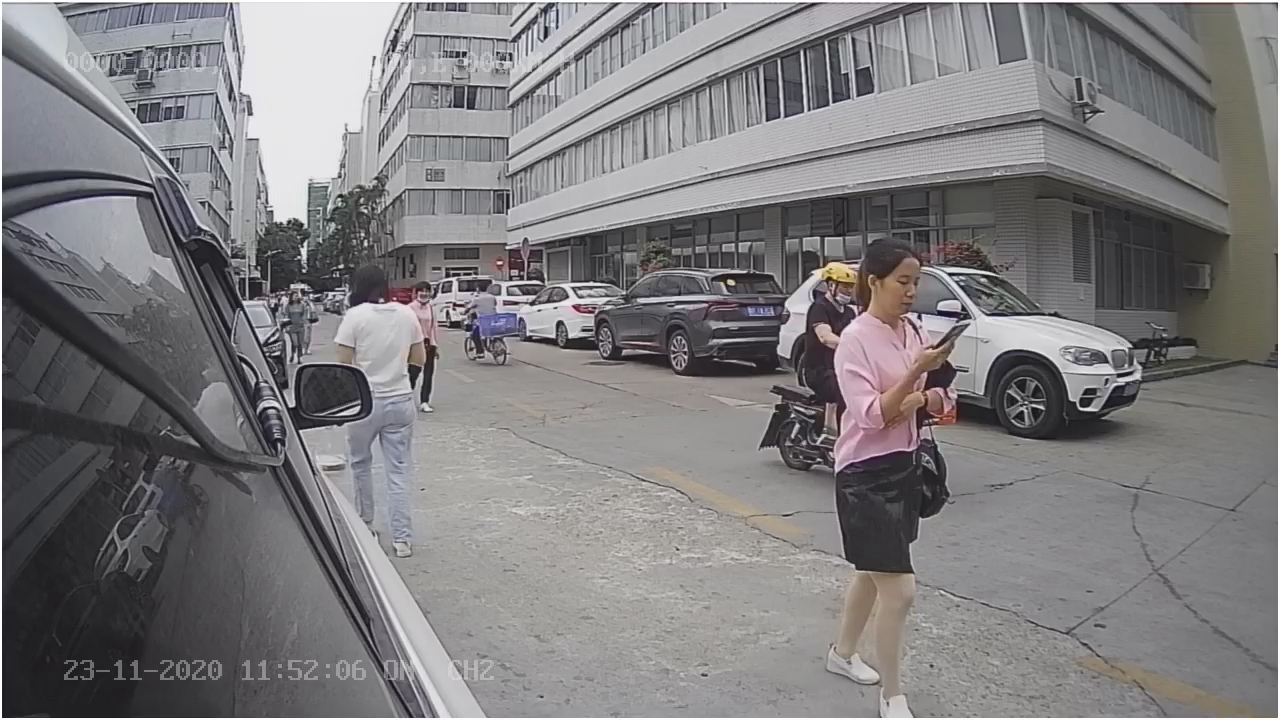person: (820, 230, 961, 719), (328, 264, 426, 370)
